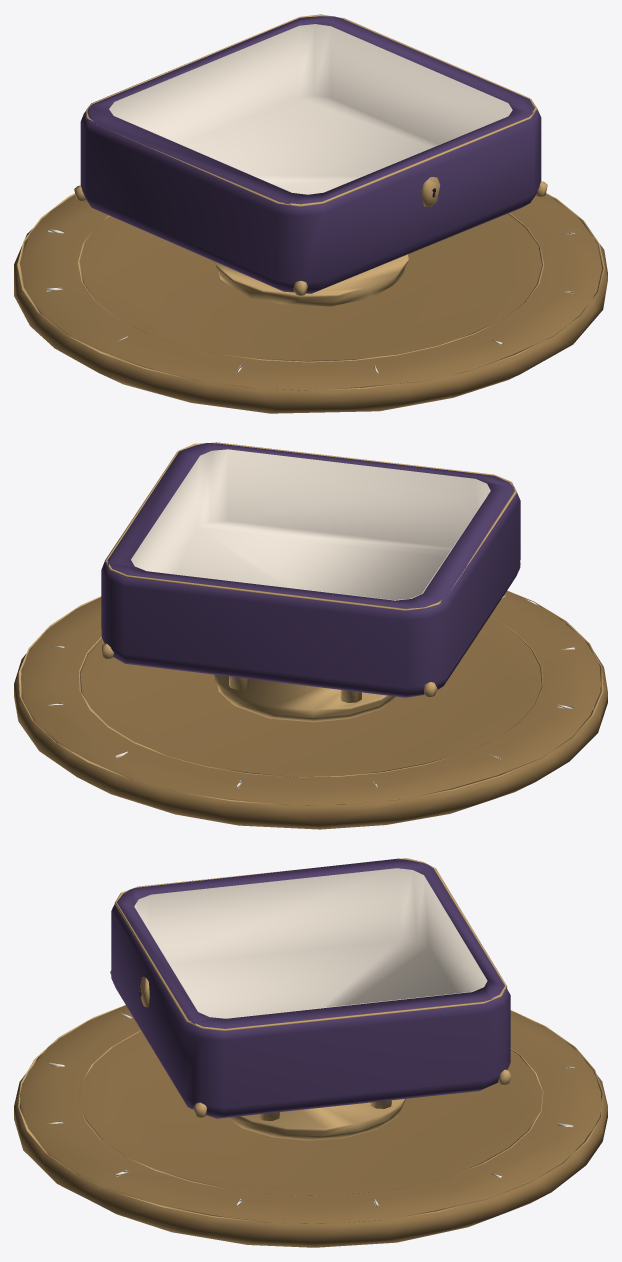
Rendered from kart.body.trinket.lod1.glb.
3 renders of one model, top to bottom at view 1: azimuth 30°, elevation 25°; view 2: azimuth 150°, elevation 25°; view 3: azimuth 270°, elevation 25°, orthographic.
Visible parts, largest first — view 1: emi_vehicle_trinket; view 2: emi_vehicle_trinket; view 3: emi_vehicle_trinket.
Boxes of the visible parts, x1,y1,x2,y2 form: emi_vehicle_trinket: [14, 14, 607, 413]; emi_vehicle_trinket: [14, 442, 607, 829]; emi_vehicle_trinket: [14, 858, 607, 1247].
Bounding box in the file's own units: 0.481 × 0.171 × 0.481.
